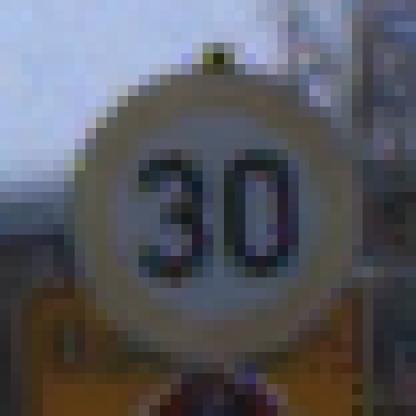Speed Limit 30: (82, 75, 356, 360)
